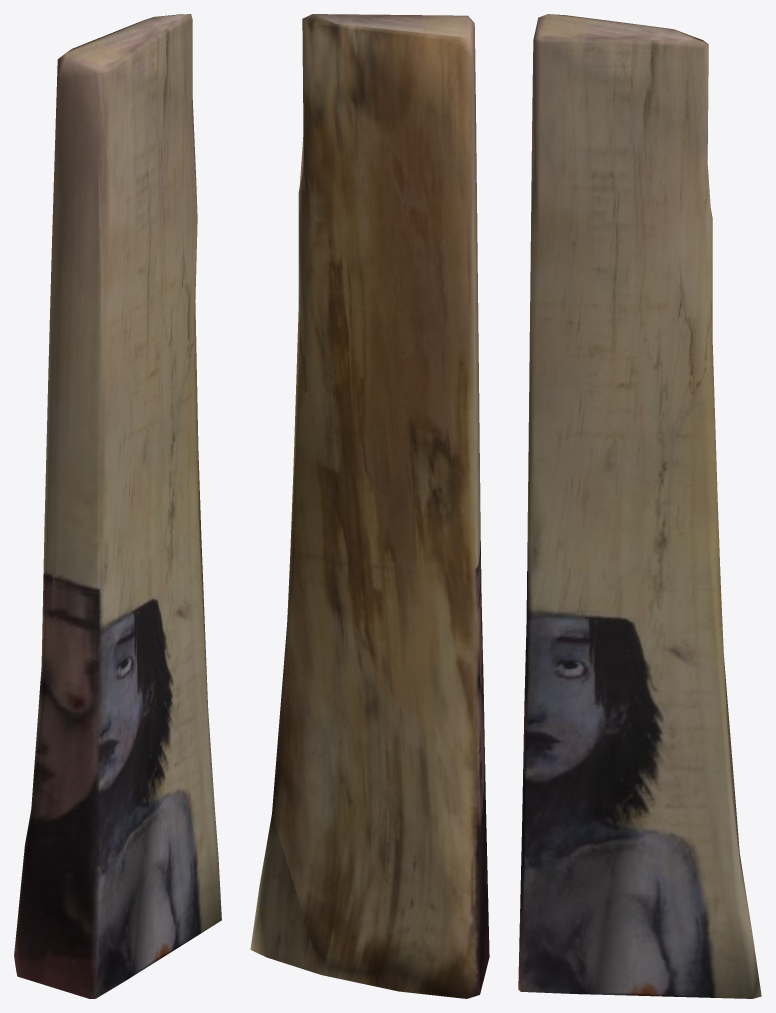
File: 491_G_GSY124.obj
3 renders of one model, left to right at view 1: azimuth 30°, elevation 25°; view 2: azimuth 150°, elevation 25°; view 3: azimuth 330°, elevation 25°, orthographic. The views are drawn at different scales.
Visible parts, largest first — view 1: 491_G_GSY124; view 2: 491_G_GSY124; view 3: 491_G_GSY124.
Part boxes in pixels (box(x1,y1,x2,y2)): 491_G_GSY124: box(14, 14, 221, 998); 491_G_GSY124: box(250, 14, 489, 998); 491_G_GSY124: box(518, 14, 761, 998).
Bounding box in the file's own units: 38.91 × 160 × 19.33.
Materials: 1 (1 with a texture image).
